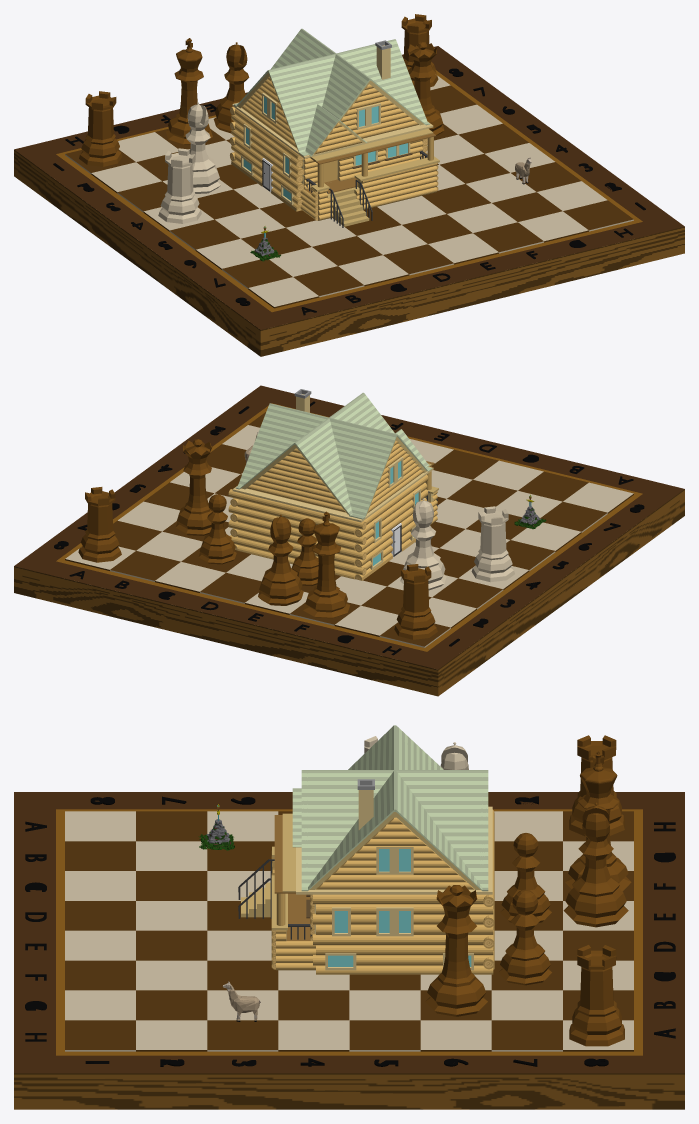
3 renders of one model, top to bottom at view 1: azimuth 30°, elevation 25°; view 2: azimuth 150°, elevation 25°; view 3: azimuth 270°, elevation 25°, orthographic. The views are drawn at different scales.
Visible parts, largest first — view 1: Cube.002, Cube.1516; view 2: Cube.002, Cube.1516; view 3: Cube.002, Cube.1516, OBJRANDOM_SWORD_IN_THE_STONE, ANIMAL_LLAMA.
Boxes of the visible parts, x1,y1,x2,y2 form: Cube.002: (14, 14, 684, 356); Cube.1516: (230, 28, 439, 227); Cube.002: (14, 385, 684, 696); Cube.1516: (228, 389, 438, 580); Cube.002: (14, 735, 684, 1109); Cube.1516: (238, 725, 494, 974); OBJRANDOM_SWORD_IN_THE_STONE: (198, 804, 234, 850); ANIMAL_LLAMA: (222, 981, 260, 1021).
Size of the model in its own units: 3981 by 1434 by 4012.
33 materials, 4 textured.
